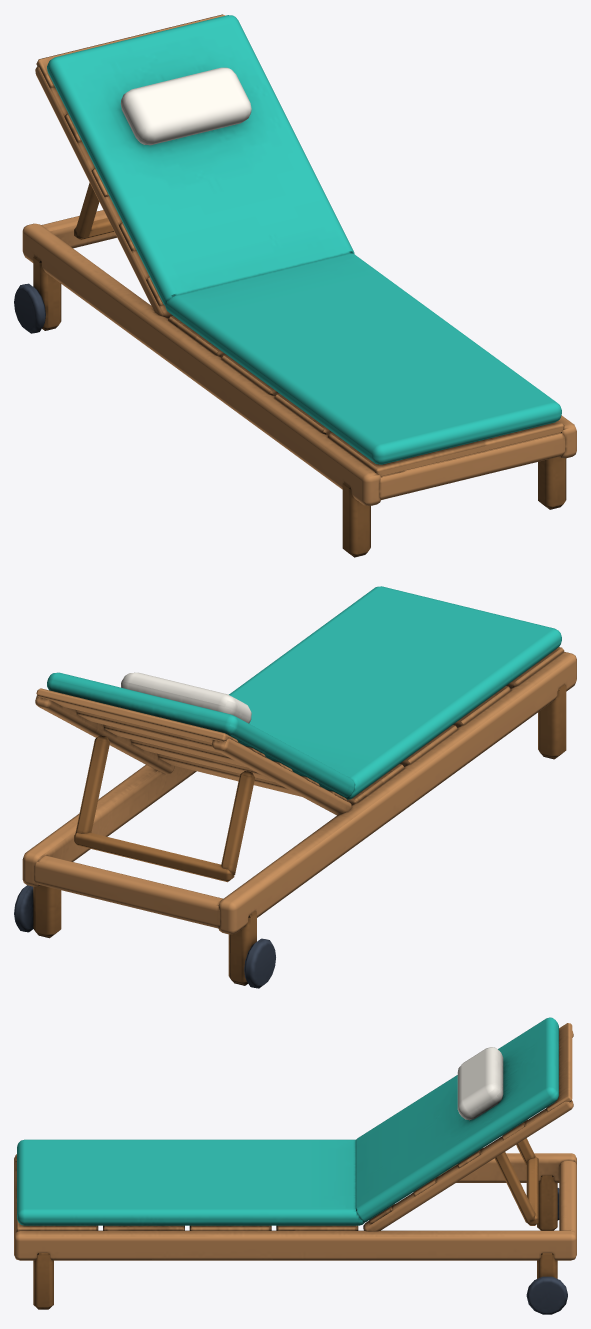
The model's file is sun_lounger.glb.
3 views of the same model, one above another, from view 1: azimuth 30°, elevation 25°; view 2: azimuth 150°, elevation 25°; view 3: azimuth 270°, elevation 25° (orthographic). The views are drawn at different scales.
Visible parts, largest first — view 1: sun_lounger; view 2: sun_lounger; view 3: sun_lounger.
Boxes of the visible parts, <box> form: sun_lounger: <box>14,14,576,557</box>; sun_lounger: <box>14,586,576,988</box>; sun_lounger: <box>14,1017,576,1314</box>.
Size of the model in its own units: 0.765 by 0.8049 by 1.9.
Materials: 5 (5 with a texture image).
